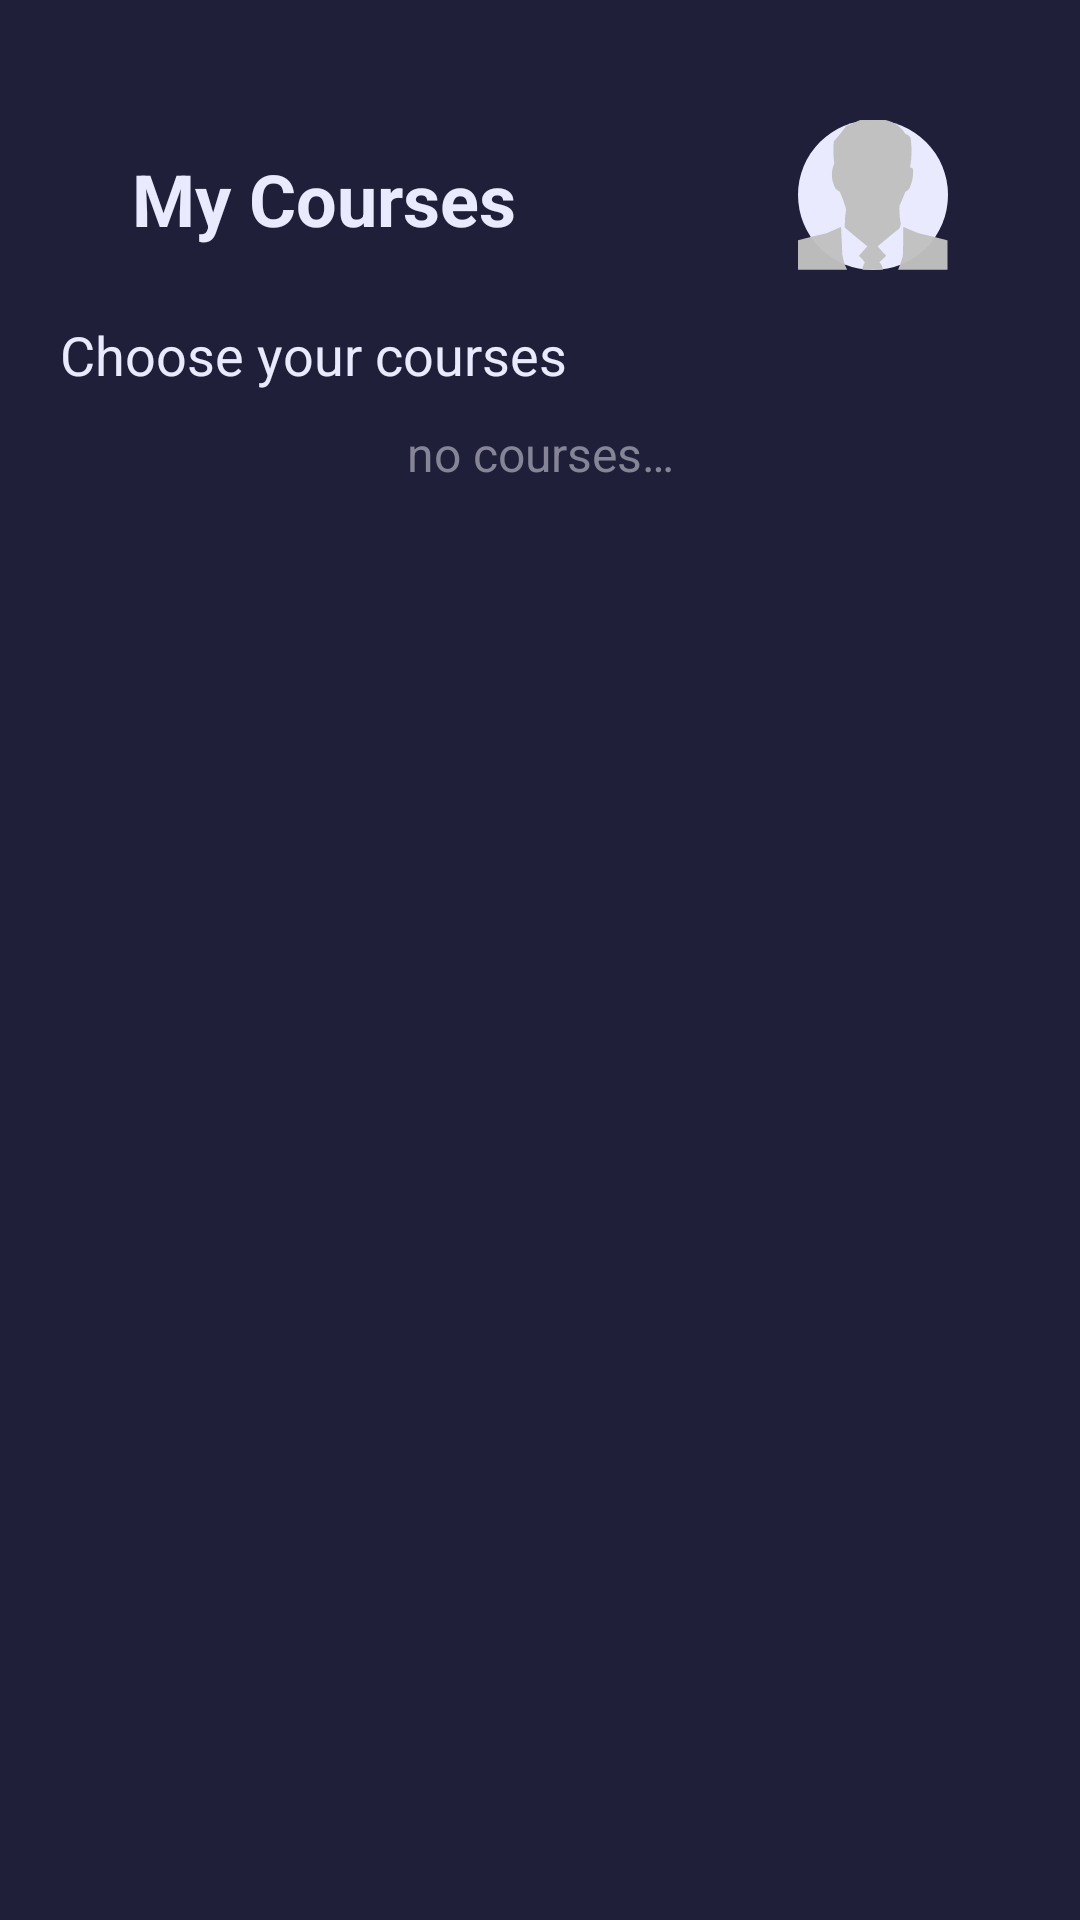

Locate icon controls on the screen. Image size 1080px×1920px, boxes as [x1,y1,x2,y2].
profile: [798,120,948,270]
